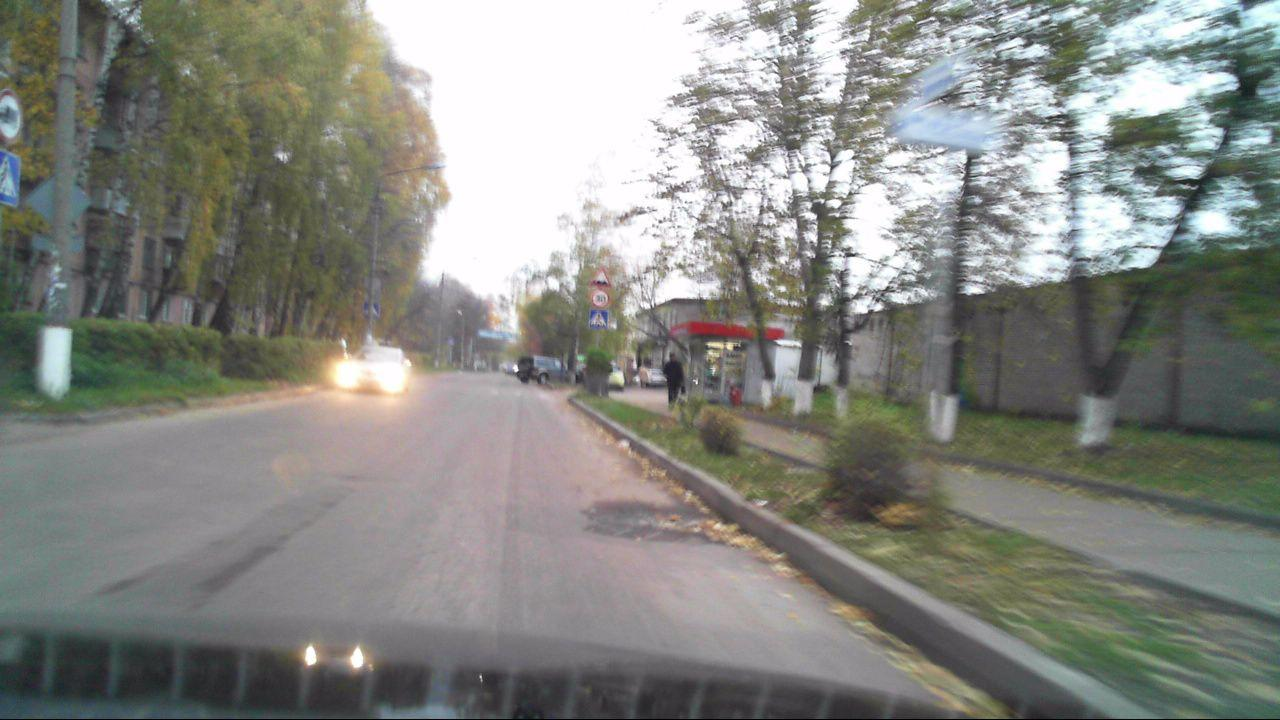1_16: (589, 266, 611, 289)
3_24: (591, 289, 611, 311)
5_19_1: (588, 310, 609, 329)
5_19_2: (364, 304, 380, 319)
